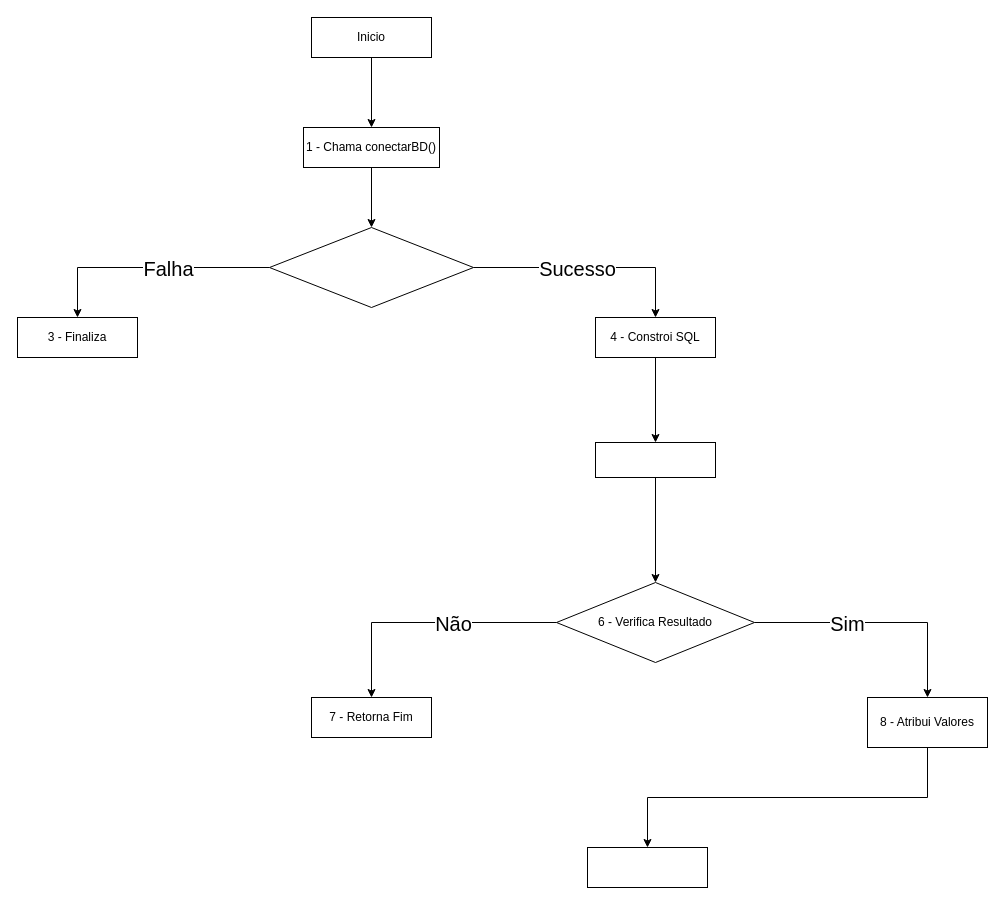
This 1005x905 diagram has some shape labels left out. Each missing label, with the box of its shape:
2 - Verifica Conexão: (268, 226, 474, 308)
5 - Executa SQL: (594, 442, 716, 478)
9 - Finaliza e Retorna: (586, 846, 708, 888)
